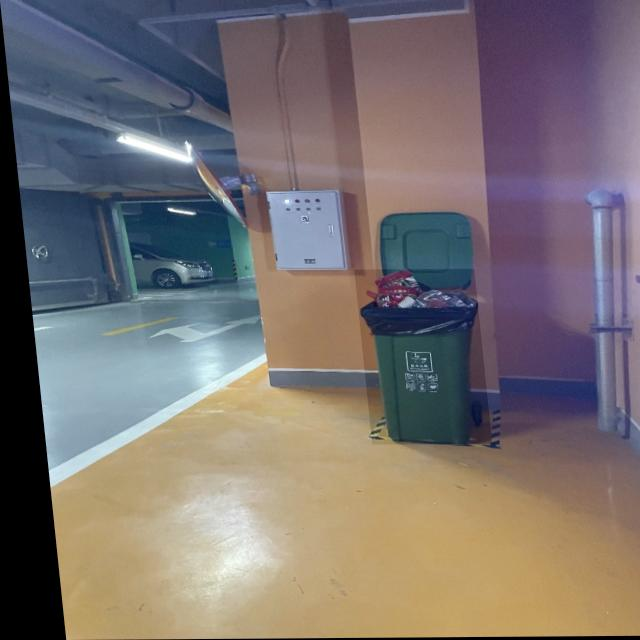overflow: (348, 269, 482, 445)
